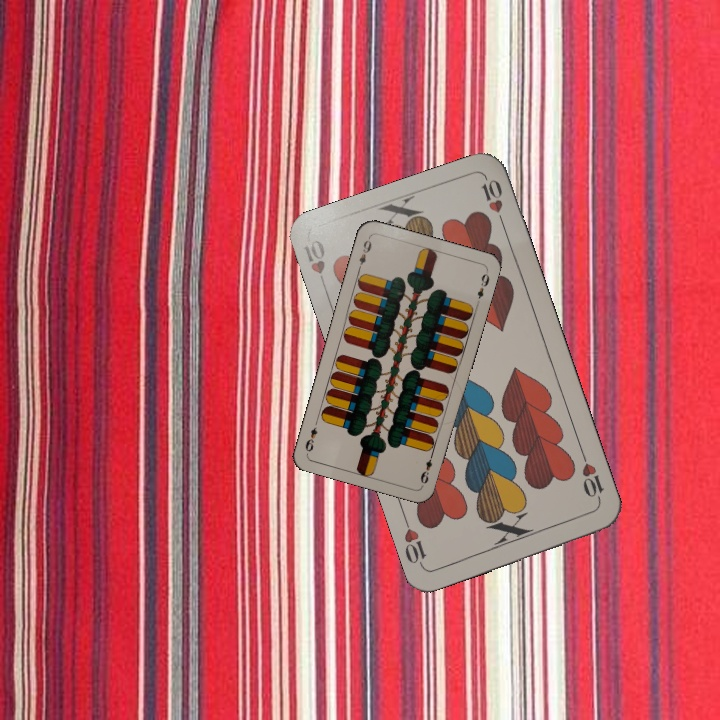E9: (354, 234, 374, 273), (416, 448, 436, 487)
H10: (300, 235, 330, 294), (577, 449, 607, 506)
